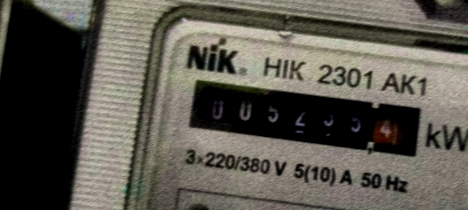0: (208, 93, 226, 120), (236, 95, 254, 121)
2: (290, 99, 310, 127)
3: (318, 100, 338, 128)
4: (375, 109, 397, 140)
5: (345, 103, 365, 134), (264, 96, 281, 123)
screen: (174, 60, 432, 169)
